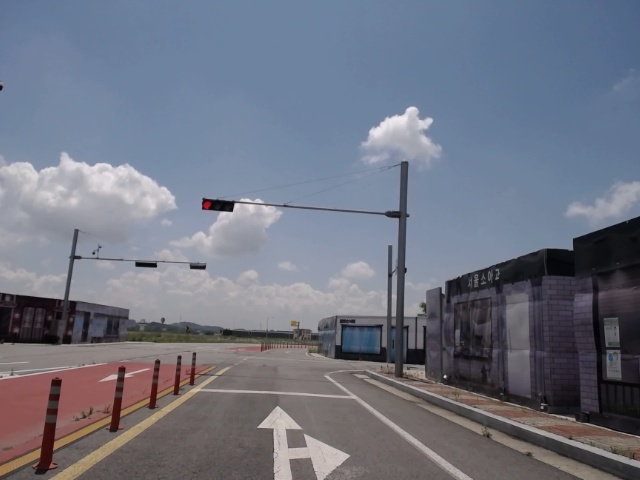red_3: (201, 196, 236, 214)
